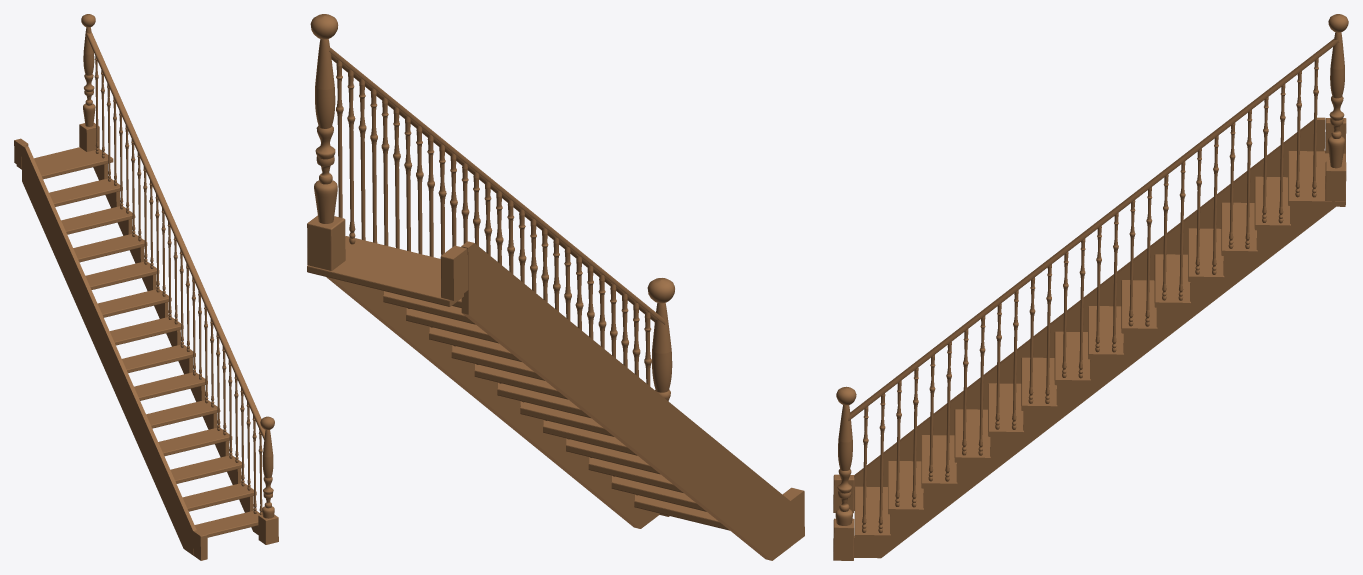
Rendered from stair.FBX.
The picture shows the model from 3 angles, left to right: view 1: azimuth 30°, elevation 25°; view 2: azimuth 150°, elevation 25°; view 3: azimuth 270°, elevation 25°; orthographic projection. The views are drawn at different scales.
Visible parts, largest first — view 1: StraightStairSideboard11, StraightStairRailing05, StraightStairSideboard12, StraightStairStep106, StraightStairStep97, StraightStairStep98, StraightStairStep95, StraightStairStep96, StraightStairStep103, StraightStairStep101, StraightStairStep93, StraightStairStep99 (+10 smaller); view 2: StraightStairSideboard11, StraightStairSideboard12, StraightStairStep106, StraightStairBanister38, StraightStairRailing05, StraightStairBanister36, StraightStairBanister35, StraightStairBanister40, StraightStairStep94, StraightStairStep95, StraightStairStep96, StraightStairStep98 (+18 smaller); view 3: StraightStairSideboard12, StraightStairSideboard11, StraightStairRailing05, StraightStairStep106, StraightStairBanister38, StraightStairBanister36, StraightStairStep103, StraightStairStep104, StraightStairStep93, StraightStairStep98, StraightStairStep94, StraightStairStep99 (+9 smaller).
Part boxes in pixels (x1=…): StraightStairSideboard11: x1=21, y1=144, x2=196, y2=555; StraightStairRailing05: x1=85, y1=31, x2=265, y2=439; StraightStairSideboard12: x1=93, y1=163, x2=258, y2=534; StraightStairStep106: x1=16, y1=147, x2=113, y2=179; StraightStairStep97: x1=158, y1=428, x2=232, y2=456; StraightStairStep98: x1=146, y1=400, x2=220, y2=428; StraightStairStep95: x1=182, y1=483, x2=256, y2=511; StraightStairStep96: x1=170, y1=455, x2=244, y2=483; StraightStairStep103: x1=73, y1=234, x2=147, y2=262; StraightStairStep101: x1=97, y1=289, x2=171, y2=317; StraightStairStep93: x1=134, y1=372, x2=207, y2=400; StraightStairStep99: x1=122, y1=344, x2=195, y2=373; StraightStairSideboard11: x1=461, y1=241, x2=790, y2=560; StraightStairSideboard12: x1=326, y1=277, x2=659, y2=528; StraightStairStep106: x1=307, y1=236, x2=463, y2=306; StraightStairBanister38: x1=310, y1=14, x2=338, y2=223; StraightStairRailing05: x1=329, y1=47, x2=665, y2=324; StraightStairBanister36: x1=647, y1=278, x2=674, y2=401; StraightStairBanister35: x1=307, y1=215, x2=345, y2=270; StraightStairBanister40: x1=440, y1=245, x2=467, y2=300; StraightStairStep94: x1=634, y1=494, x2=729, y2=530; StraightStairStep95: x1=611, y1=476, x2=706, y2=511; StraightStairStep96: x1=588, y1=457, x2=683, y2=493; StraightStairStep98: x1=543, y1=420, x2=637, y2=455; StraightStairSideboard12: x1=854, y1=206, x2=1335, y2=558; StraightStairSideboard11: x1=854, y1=117, x2=1325, y2=510; StraightStairRailing05: x1=848, y1=39, x2=1338, y2=420; StraightStairStep106: x1=1288, y1=151, x2=1345, y2=206; StraightStairBanister38: x1=1327, y1=14, x2=1348, y2=168; StraightStairBanister36: x1=835, y1=386, x2=856, y2=525; StraightStairStep103: x1=1188, y1=228, x2=1224, y2=282; StraightStairStep104: x1=1221, y1=202, x2=1257, y2=256; StraightStairStep93: x1=1021, y1=357, x2=1057, y2=411; StraightStairStep98: x1=988, y1=383, x2=1024, y2=437; StraightStairStep94: x1=854, y1=486, x2=890, y2=540; StraightStairStep99: x1=1054, y1=331, x2=1090, y2=385.
Size of the model in its own units: 81.65 by 393 by 339.
